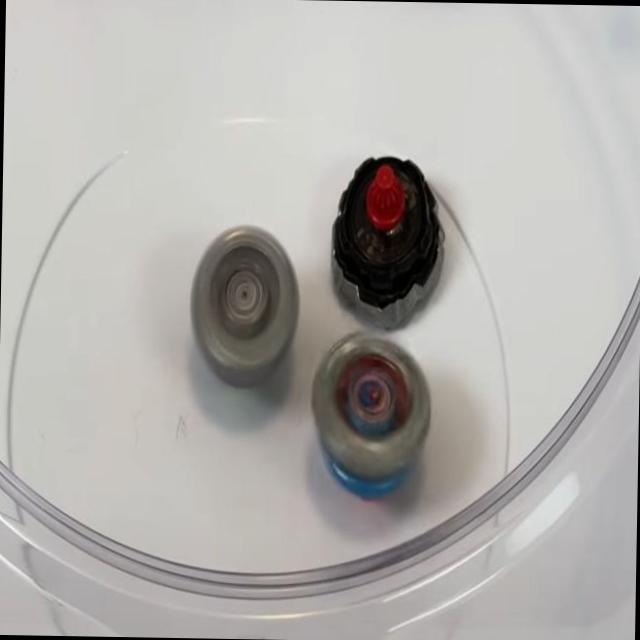Beyblade: (309, 332, 432, 500), (328, 154, 443, 328), (189, 223, 301, 386)
